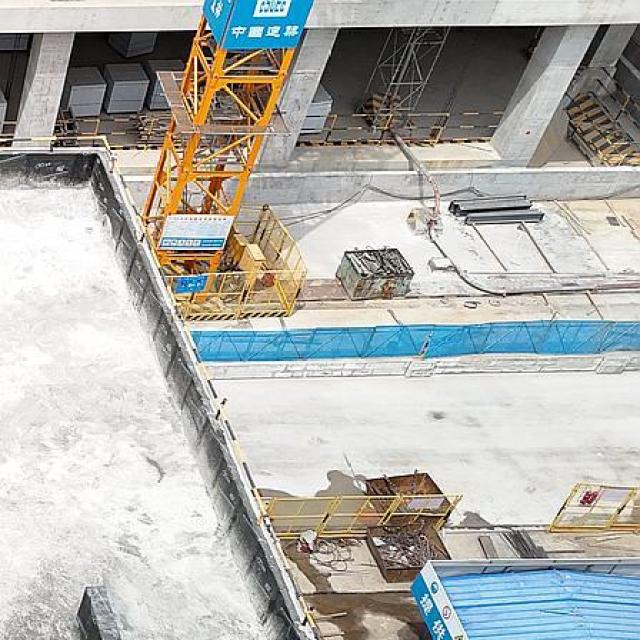edge_guardrail: (0, 135, 323, 640), (564, 66, 640, 168), (297, 111, 504, 146), (52, 118, 172, 151), (0, 121, 17, 136)
